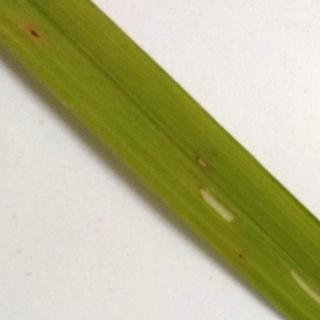bercak-Cokelat: (190, 150, 218, 186), (23, 18, 49, 48), (237, 243, 251, 272)
